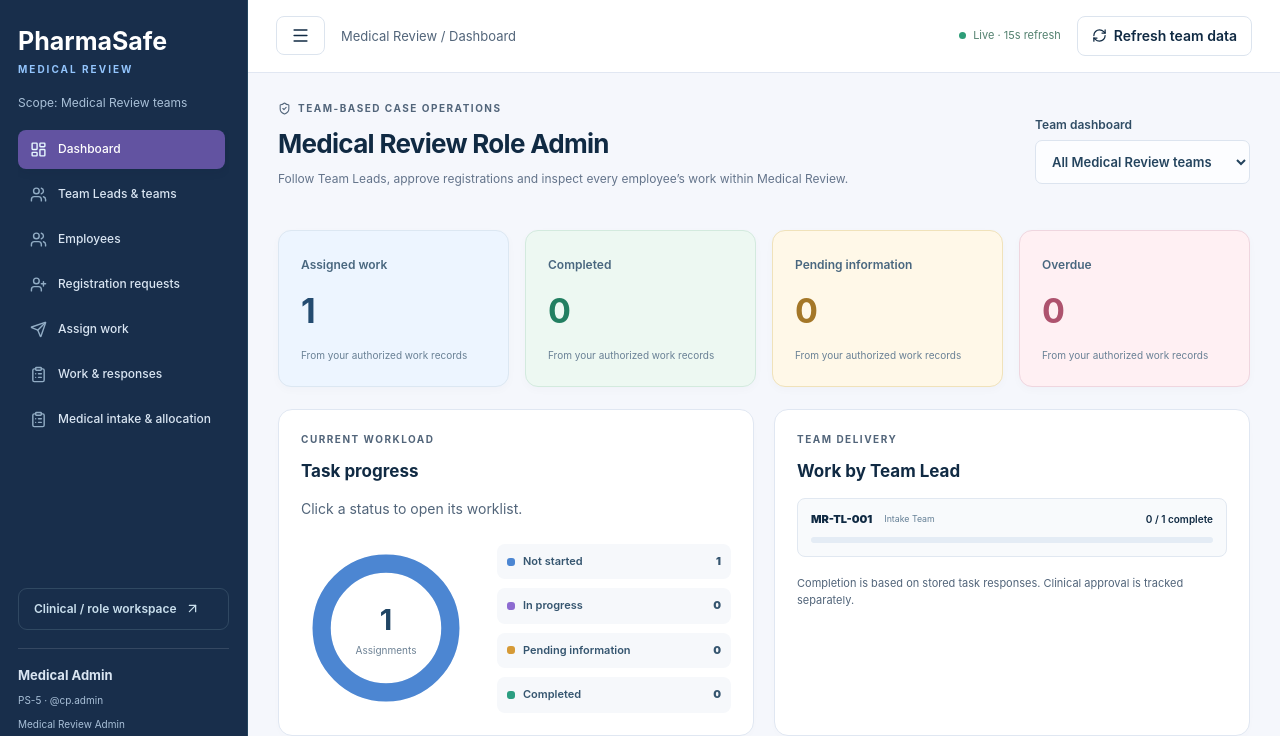
keeps the active-team statistic aligned with the selected dashboard
This screenshot has width=1280, height=736.
Select "MR-TL-001 · Intake Team" in the dropdown labelled "Team dashboard" at coordinates (1142, 162), box 1035,140 -> 1250,184
(page scrolled)
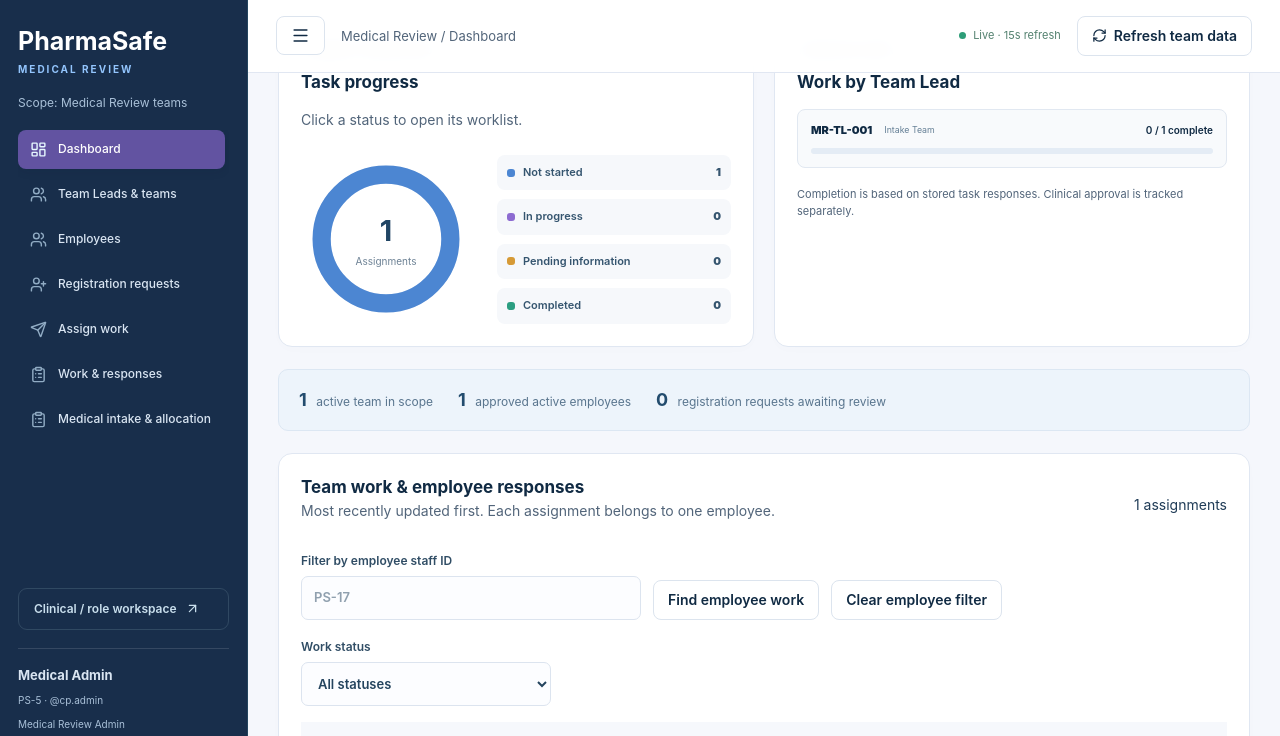
Expected: the element with class "cp-operation-strip" shows "1 active team in scope", 278,369 -> 1250,431
